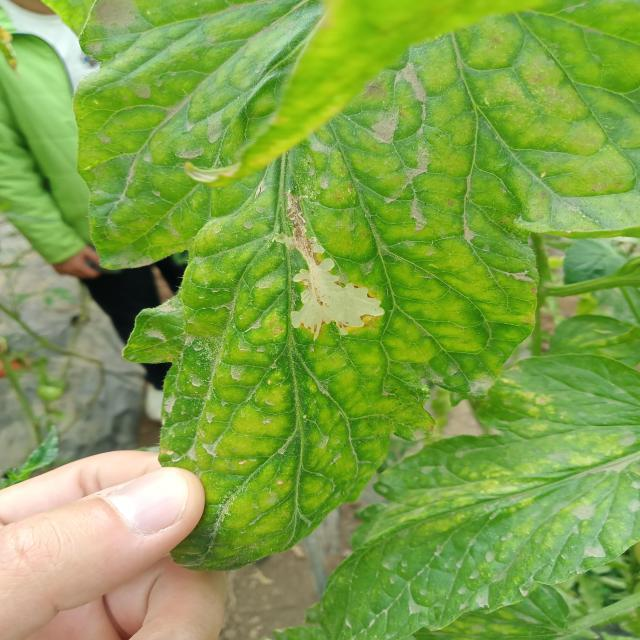Tuta absoluta: (231, 193, 387, 361)
